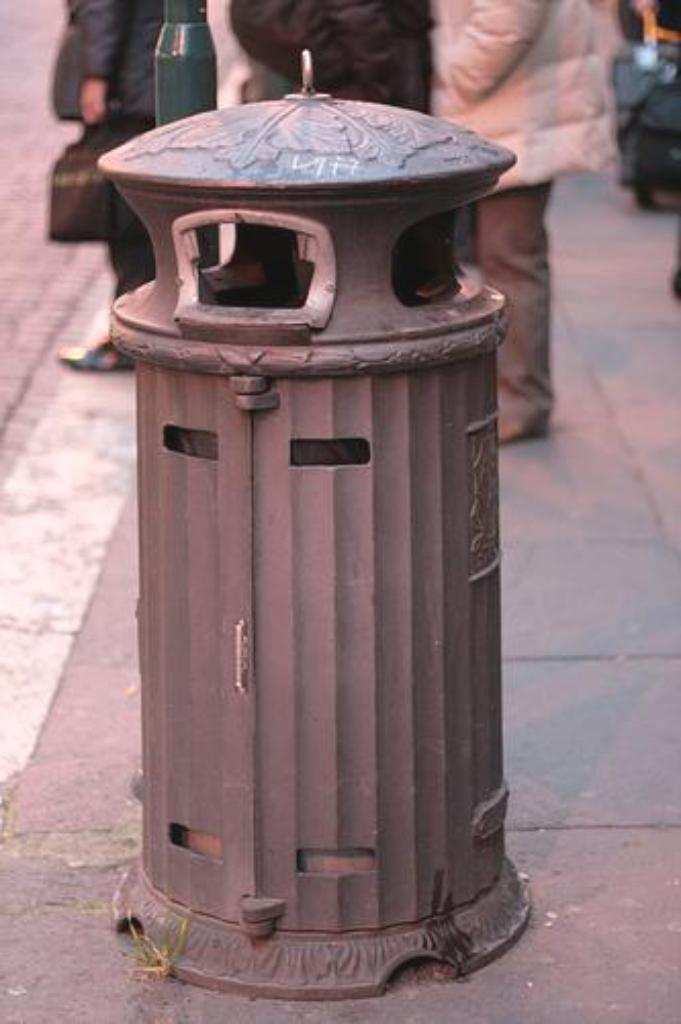dustbin: (83, 77, 526, 1016)
